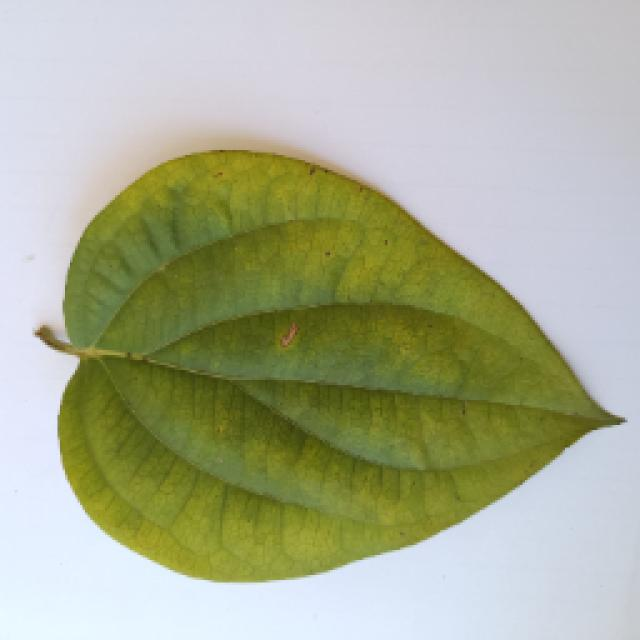slow-decline: (30, 168, 615, 610)
